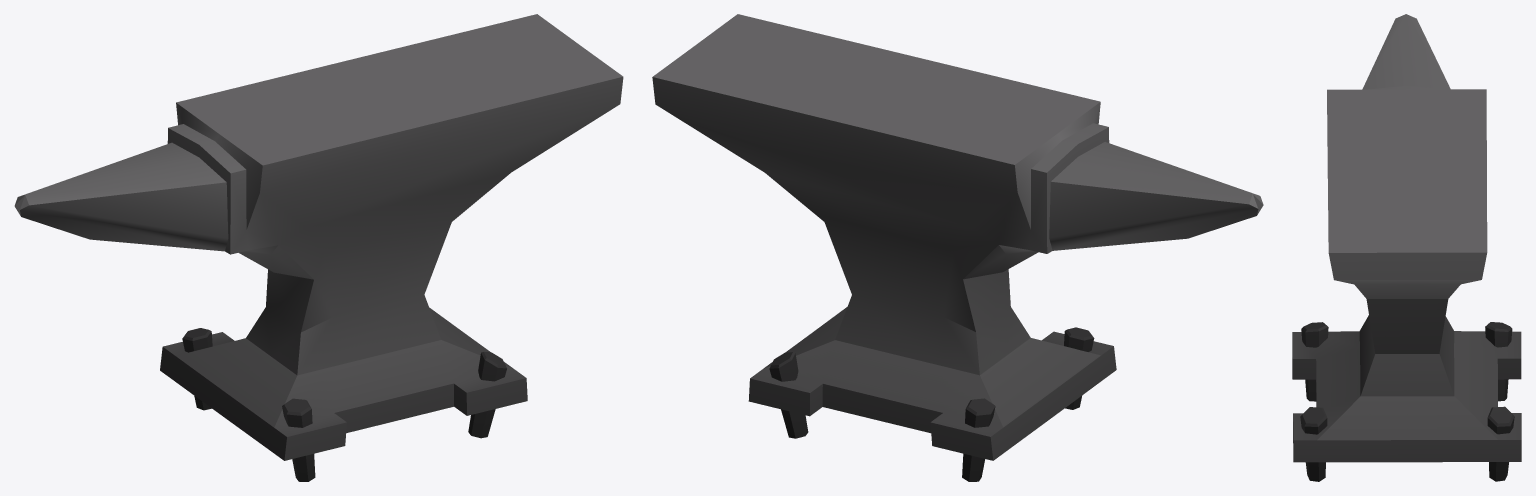
File: Anvil_1.fbx
3 renders of one model, left to right at view 1: azimuth 30°, elevation 25°; view 2: azimuth 150°, elevation 25°; view 3: azimuth 270°, elevation 25°, orthographic. The views are drawn at different scales.
Visible parts, largest first — view 1: Anvil_1; view 2: Anvil_1; view 3: Anvil_1.
Boxes of the visible parts, x1=… form: Anvil_1: x1=14, y1=14, x2=623, y2=481; Anvil_1: x1=652, y1=14, x2=1263, y2=481; Anvil_1: x1=1292, y1=14, x2=1521, y2=481.
Size of the model in its own units: 126 by 67.86 by 48.02.
